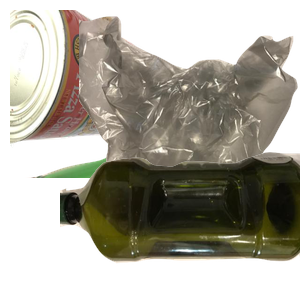glass: (23, 120, 263, 300)
metal: (10, 10, 159, 152)
plastic: (60, 149, 300, 300)
trash: (79, 14, 300, 194)
